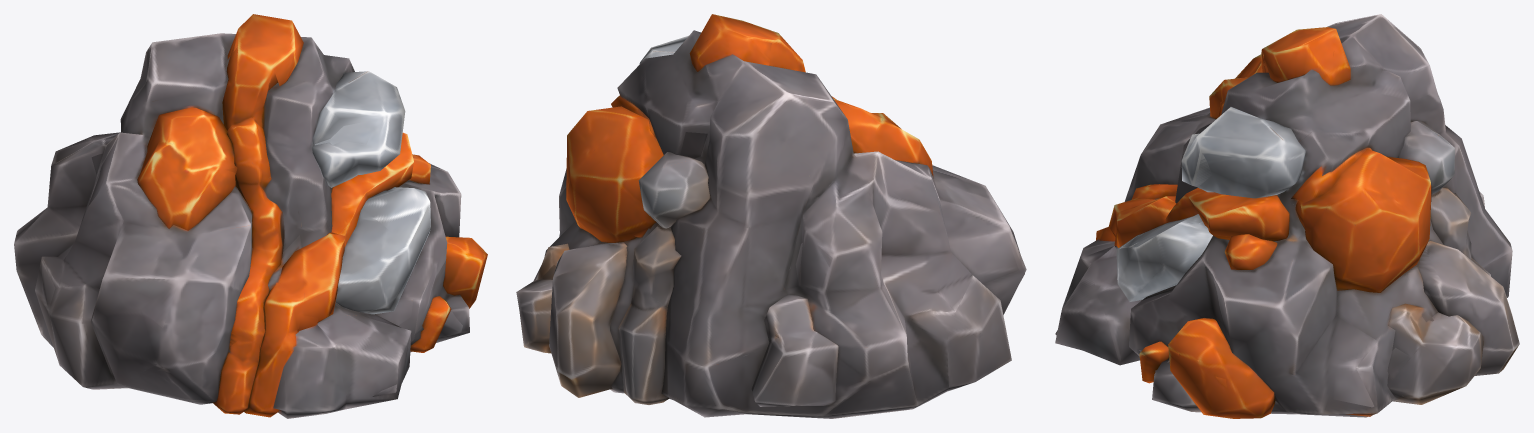
File: node-metal.glb
3 views of the same model, side by side, from view 1: azimuth 30°, elevation 25°; view 2: azimuth 150°, elevation 25°; view 3: azimuth 270°, elevation 25° (orthographic). The views are drawn at different scales.
Parts seen in each view (by area): view 1: geometry_0; view 2: geometry_0; view 3: geometry_0.
Part boxes in pixels (x1,y1,x2,y2): geometry_0: [14, 14, 487, 418]; geometry_0: [516, 14, 1026, 418]; geometry_0: [1055, 14, 1519, 418].
Size of the model in its own units: 1 by 0.7428 by 0.9751.
1 material, 1 textured.
